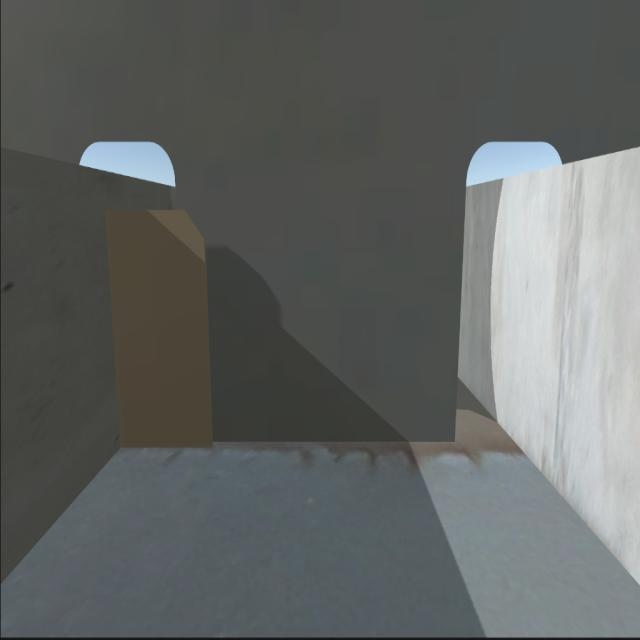fillet_yong_jeop_jang: (113, 431, 456, 447)
longi_yong_jeop_jang: (104, 209, 124, 447)
plate_CP03: (116, 205, 213, 446)
